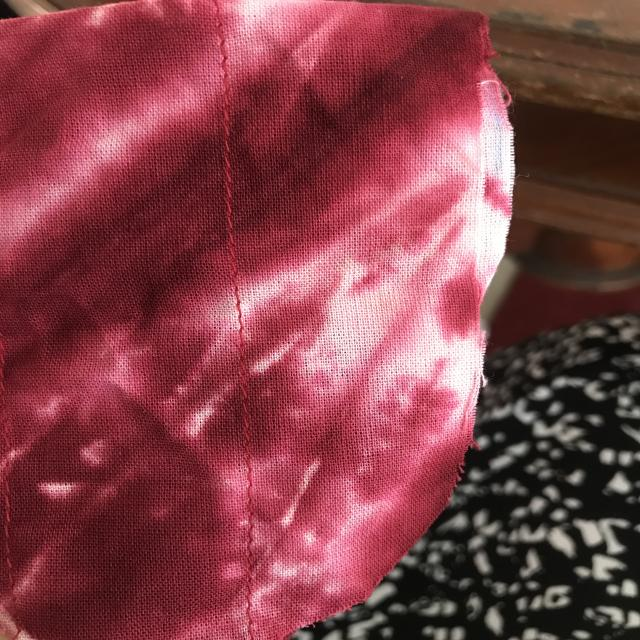good: (206, 136, 258, 232), (231, 458, 280, 538)
